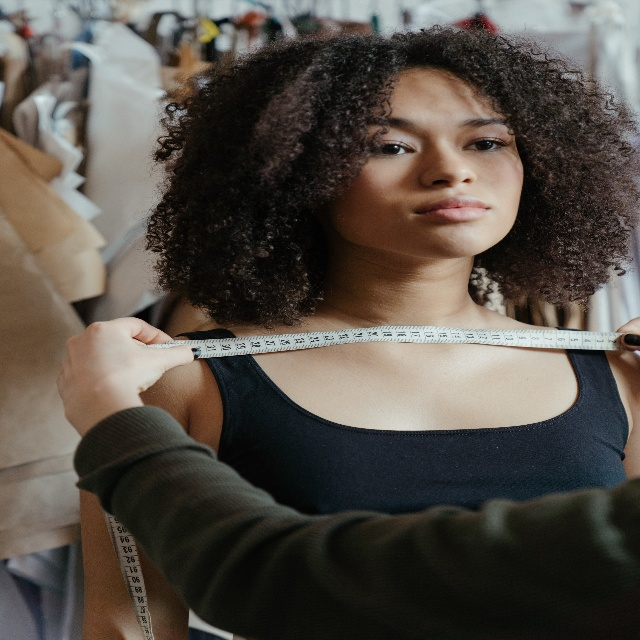Sin_guantes: (55, 315, 202, 425), (616, 317, 640, 351)
